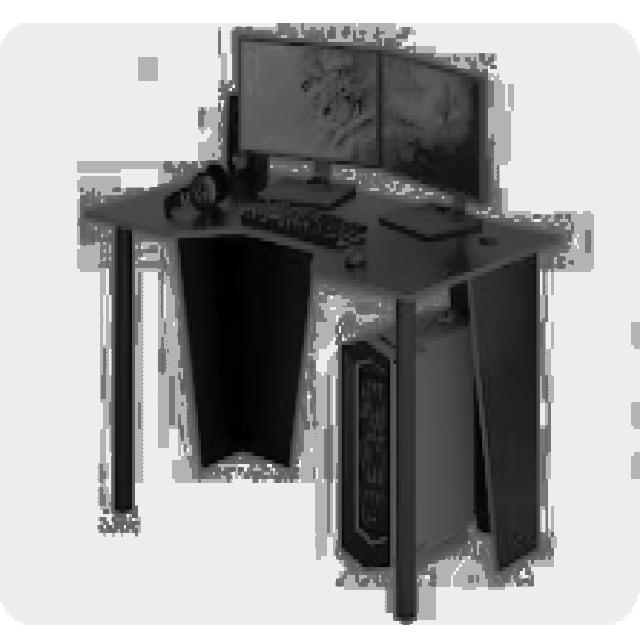table: (80, 161, 560, 617)
